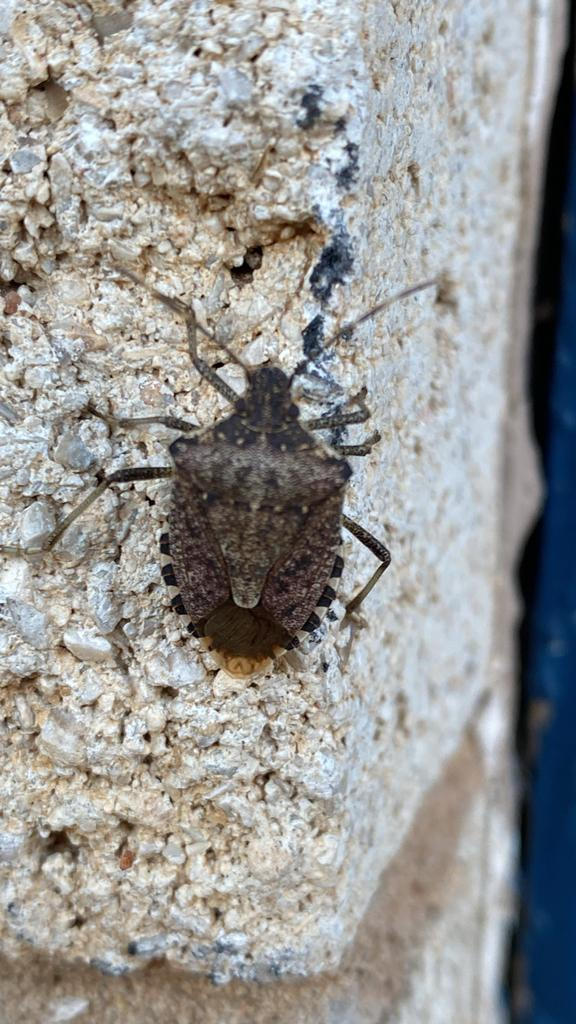stink_bugs: (0, 201, 563, 748)
